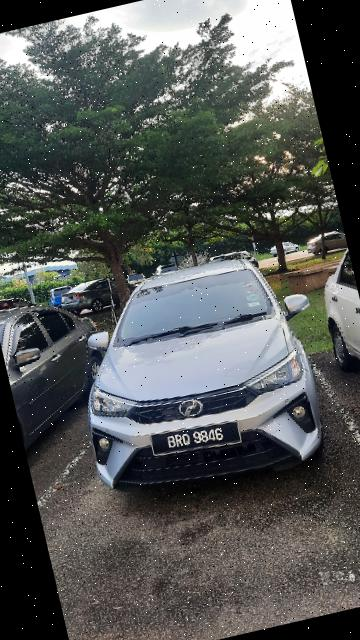License_Plate: (148, 412, 249, 465)
car: (51, 238, 352, 512)
